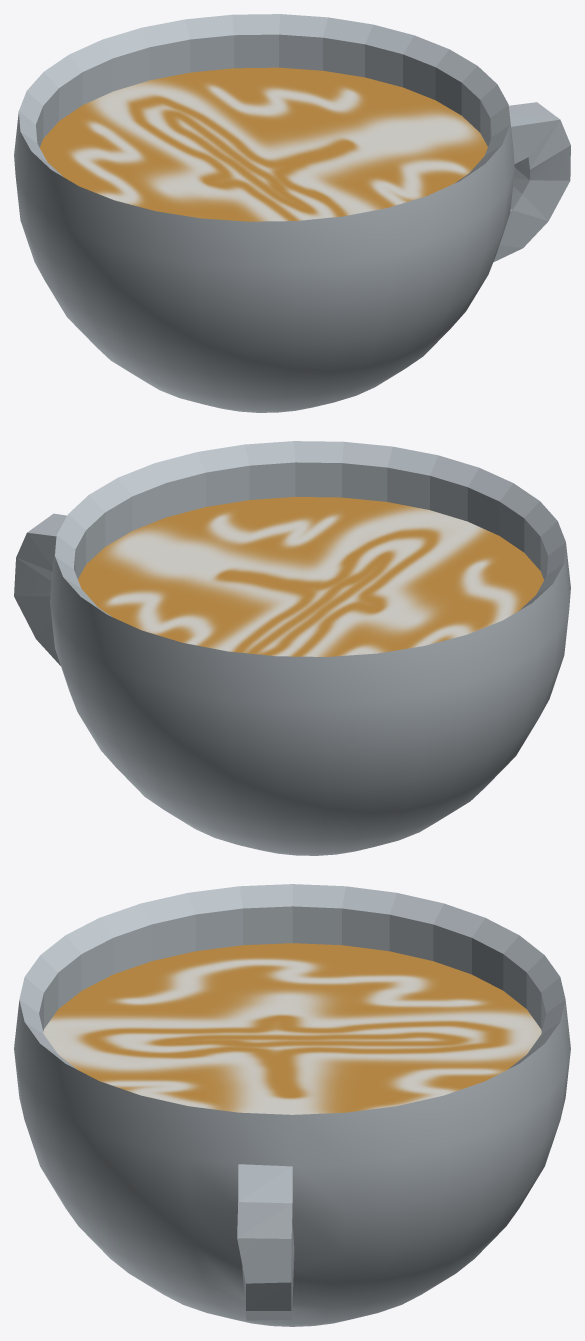
File: Coffee.fbx
The picture shows the model from 3 angles, top to bottom: view 1: azimuth 30°, elevation 25°; view 2: azimuth 150°, elevation 25°; view 3: azimuth 270°, elevation 25°; orthographic projection. The views are drawn at different scales.
Parts seen in each view (by area): view 1: Sphere001; view 2: Sphere001; view 3: Sphere001.
Boxes of the visible parts, bbox=[...] form: Sphere001: bbox=[14, 14, 570, 412]; Sphere001: bbox=[14, 441, 570, 855]; Sphere001: bbox=[14, 884, 570, 1326].
Bounding box in the file's own units: 35.73 × 18.62 × 30.88.
Materials: 1 (1 with a texture image).
